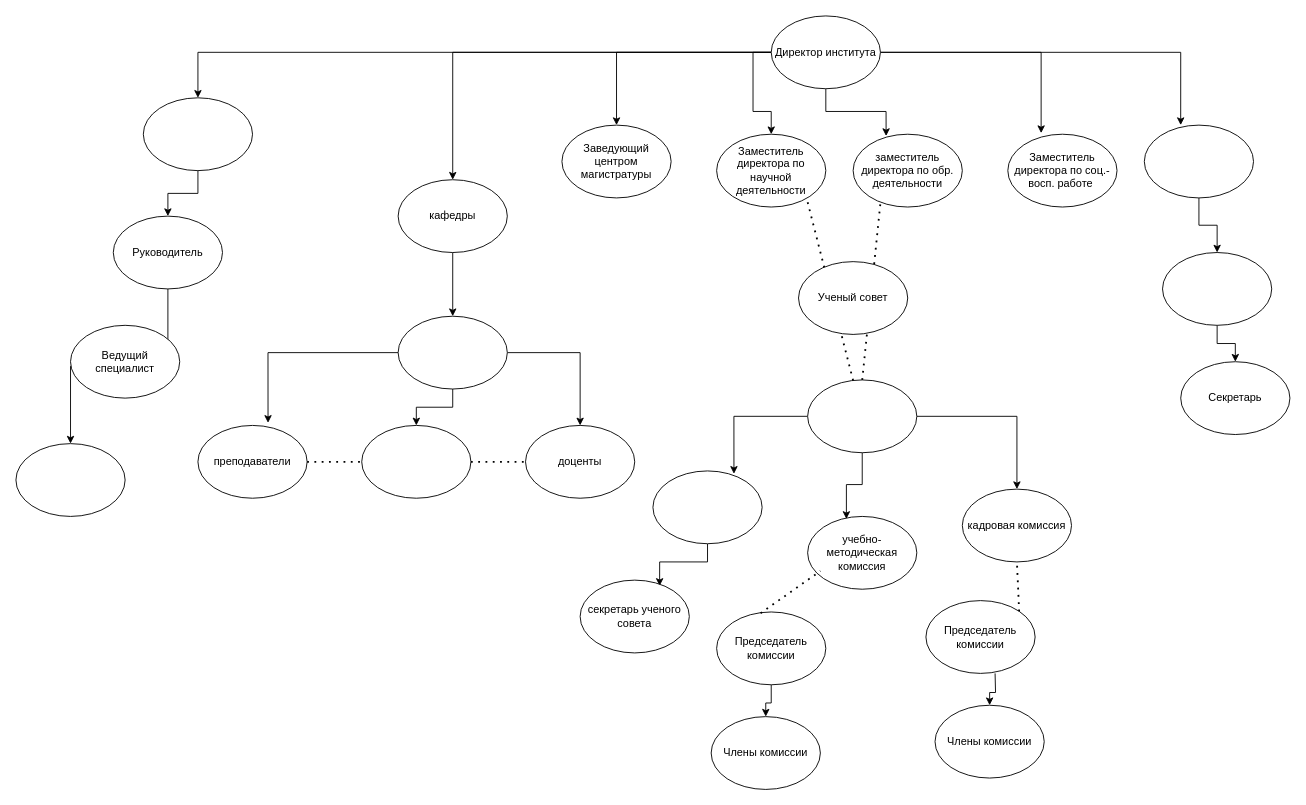
The diagram is 1306 pixels wide and 805 high, and some of its shapes have lost their labels. The centre of each missing label's shape, as x and y in pixels:
"зав. кафедры" goes at (452,352).
"Заместитель директора по международной деятельности" goes at (1198,161).
"заместитель председателя ученого совета" goes at (707,507).
"Председатель ученого совета" goes at (862,416).
"профессора" goes at (416,461).
"Руководитель центра международной деятельности" goes at (1217,288).
"Специалист" goes at (70,479).
"центр по сопровождению учебного процесса" goes at (197,134).
